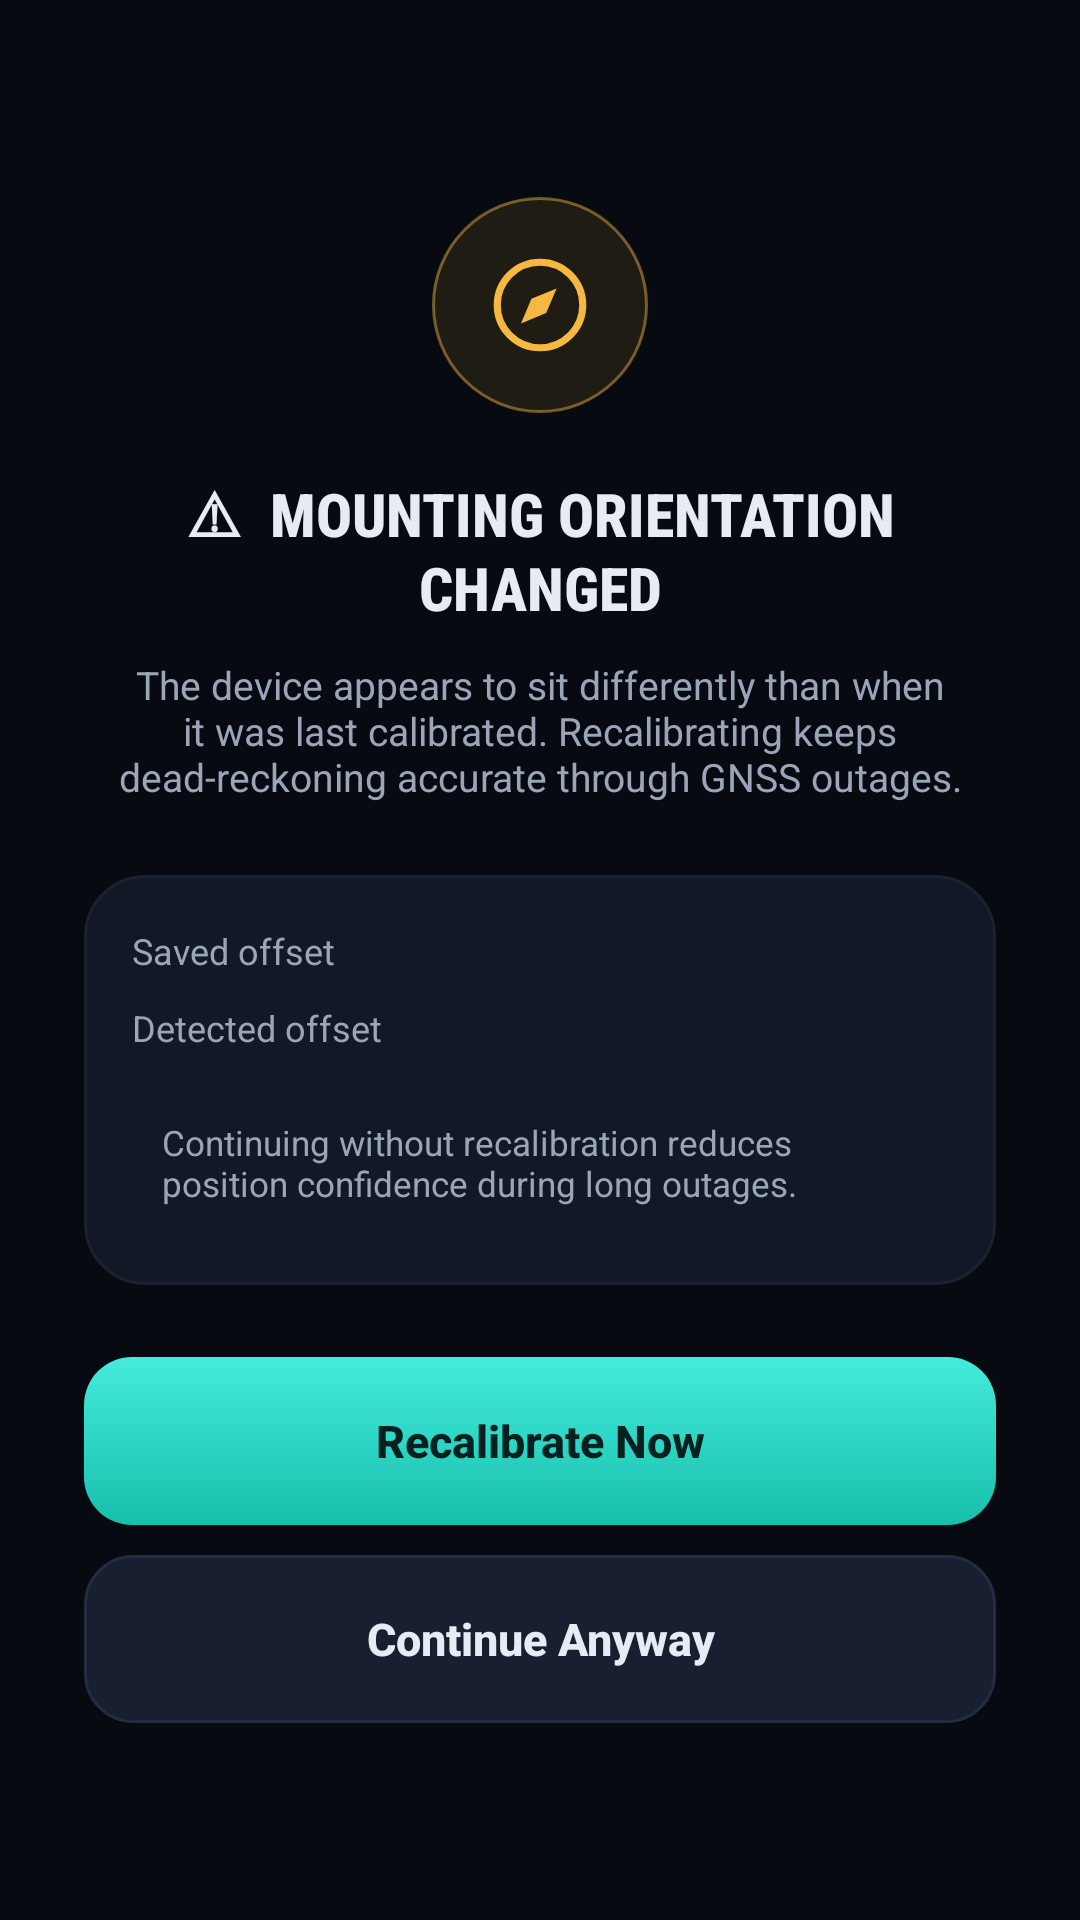

Icons on this 1080 x 1920 Android screen, each with its box as (x1, y1, x2, y2):
compass: (493, 258, 587, 352)
